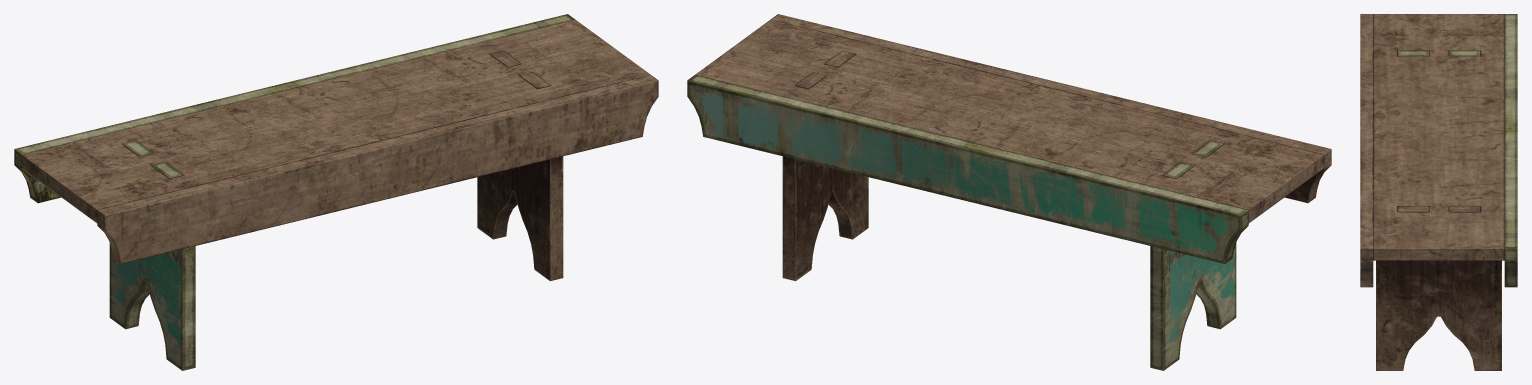
Rendered from chair.glb.
3 views of the same model, side by side, from view 1: azimuth 30°, elevation 25°; view 2: azimuth 150°, elevation 25°; view 3: azimuth 270°, elevation 25° (orthographic). The views are drawn at different scales.
Parts seen in each view (by area): view 1: Seat_001, Front_Plank_001, Left_Leg_001, Right_Leg_001, Back_Plank_001; view 2: Seat_001, Back_Plank_001, Left_Leg_001, Right_Leg_001, Front_Plank_001; view 3: Seat_001, Right_Leg_001, Front_Plank_001, Back_Plank_001, Left_Leg_001.
Part boxes in pixels (x1=…): Seat_001: x1=22, y1=19, x2=650, y2=223; Front_Plank_001: x1=97, y1=75, x2=658, y2=263; Left_Leg_001: x1=109, y1=140, x2=195, y2=370; Right_Leg_001: x1=477, y1=50, x2=563, y2=281; Back_Plank_001: x1=14, y1=14, x2=574, y2=203; Seat_001: x1=695, y1=19, x2=1323, y2=223; Back_Plank_001: x1=687, y1=75, x2=1248, y2=263; Left_Leg_001: x1=1150, y1=140, x2=1236, y2=370; Right_Leg_001: x1=782, y1=50, x2=868, y2=281; Front_Plank_001: x1=771, y1=14, x2=1331, y2=203; Seat_001: x1=1373, y1=14, x2=1504, y2=260; Right_Leg_001: x1=1376, y1=206, x2=1501, y2=370; Front_Plank_001: x1=1360, y1=14, x2=1373, y2=287; Back_Plank_001: x1=1504, y1=14, x2=1517, y2=287; Left_Leg_001: x1=1397, y1=50, x2=1480, y2=56.
Size of the model in its own units: 126 by 39.8 by 35.7.
Materials: 1 (1 with a texture image).
